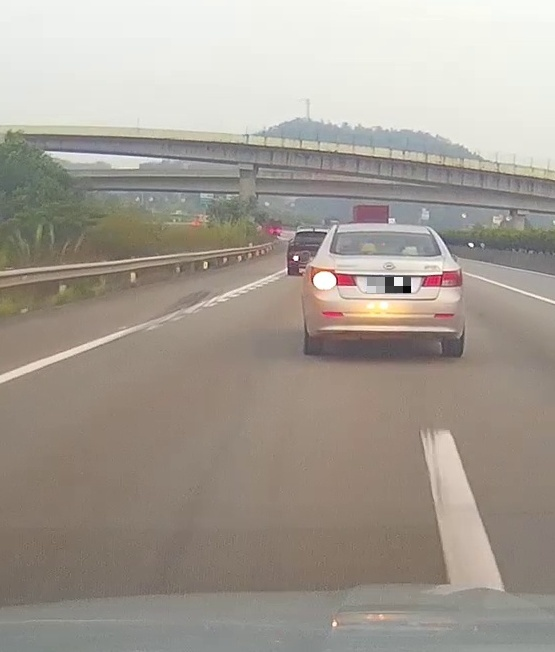L_light: (311, 266, 356, 287)
R_light: (421, 268, 462, 287)
T_light: (380, 232, 394, 234)
day-left: (302, 223, 464, 358)
plate_1: (367, 277, 411, 293)
